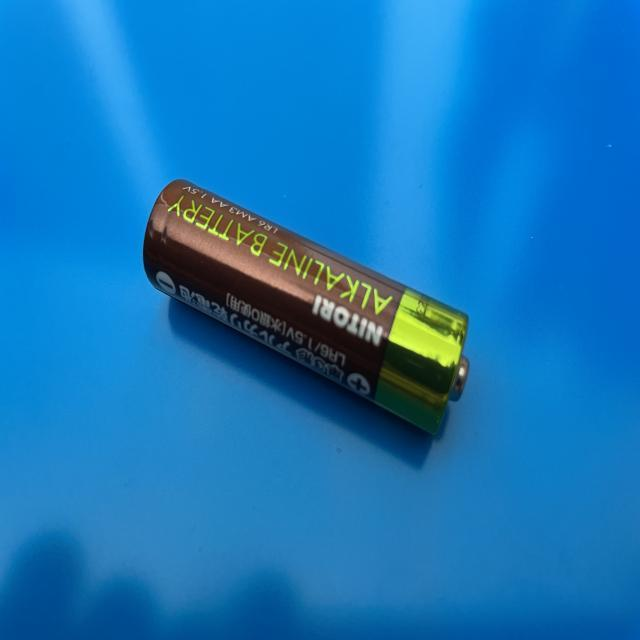hazardous waste: (142, 176, 472, 440)
